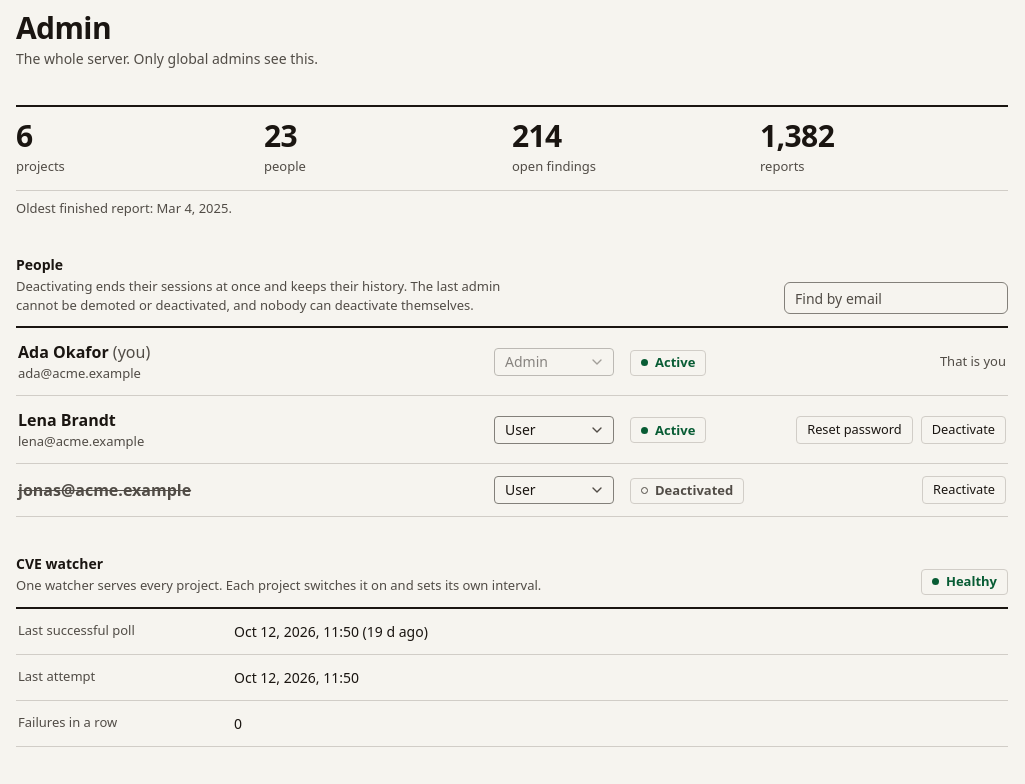
Scenario: Admin › people › relays the server's refusal, for example for the last admin
What coordinates should you click on to do the following:
click the dropdown named "Role of Lena Brandt"
I would click on:
 (554, 430)
Its box is [494, 416, 614, 444].
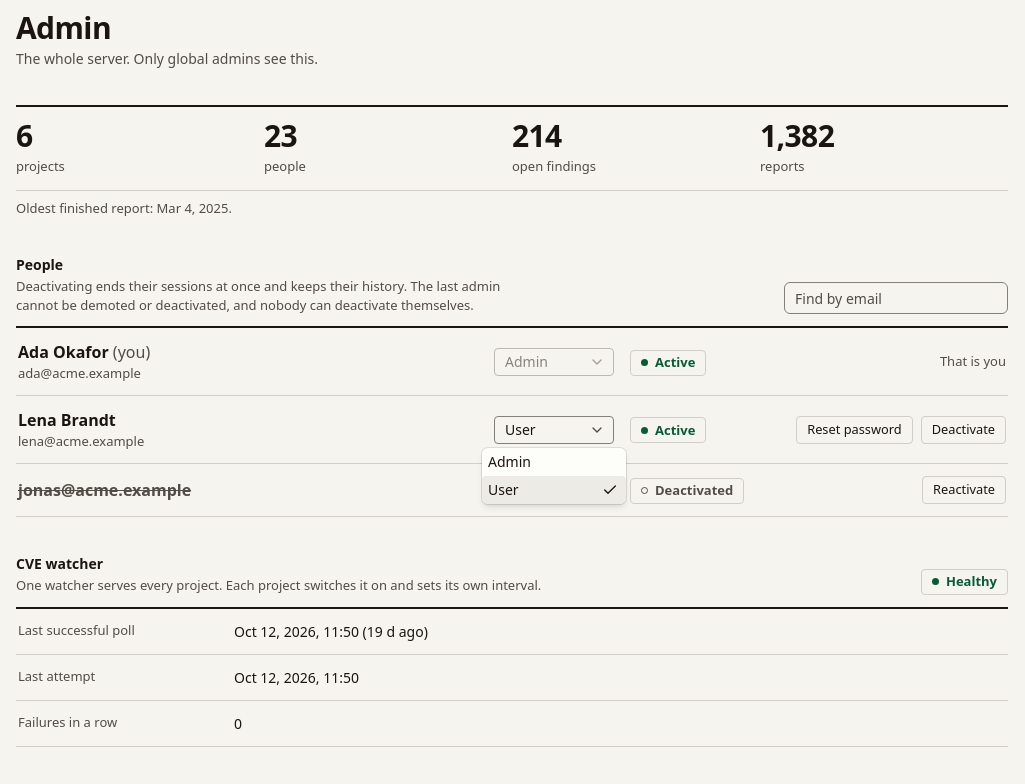
What coordinates should you click on to do the following:
click the option "Admin"
I would click on:
 (509, 462)
Its box is [488, 452, 531, 471].
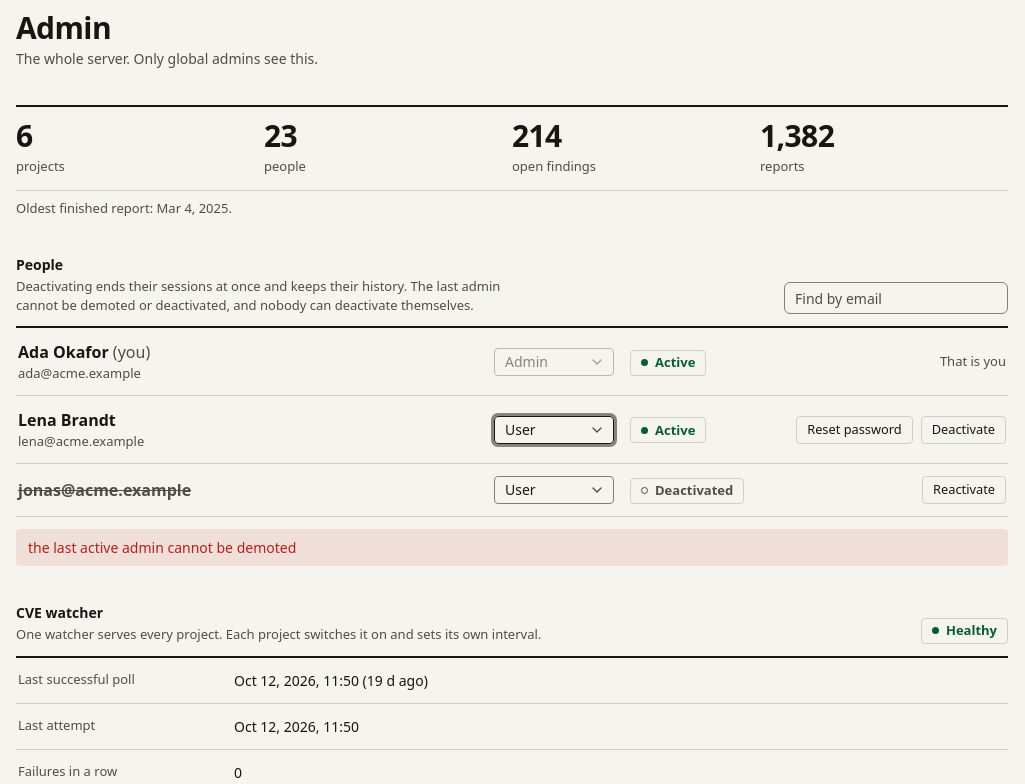
Check: the message reads "the last active admin cannot be demoted", box [28, 538, 296, 557]
